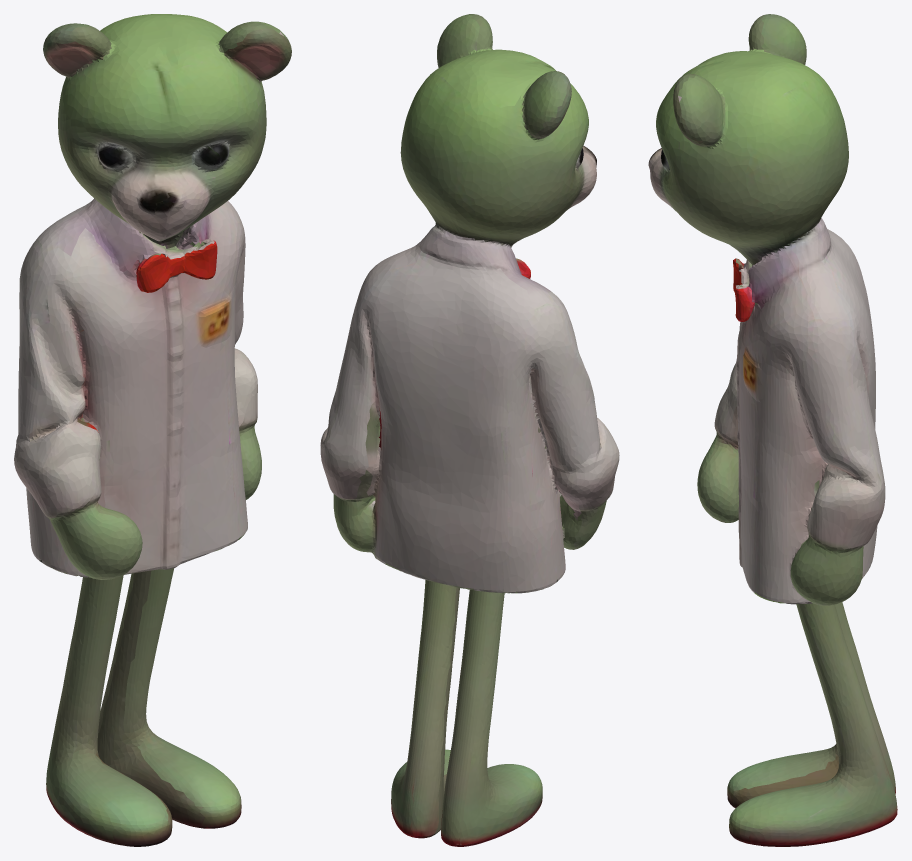
The model's file is garak_creepy2.glb.
3 renders of one model, left to right at view 1: azimuth 30°, elevation 25°; view 2: azimuth 150°, elevation 25°; view 3: azimuth 270°, elevation 25°, orthographic. The views are drawn at different scales.
Visible parts, largest first — view 1: creepy2.obj; view 2: creepy2.obj; view 3: creepy2.obj.
Boxes of the visible parts, <box> form: creepy2.obj: <box>14,14,291,846</box>; creepy2.obj: <box>320,14,619,846</box>; creepy2.obj: <box>648,14,897,846</box>.
Size of the model in its own units: 0.6807 by 1.97 by 0.5843.
Materials: 1 (1 with a texture image).
